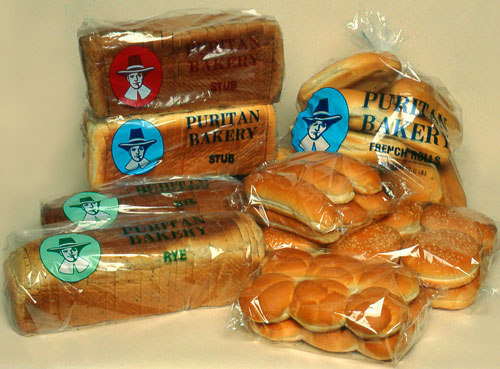hamburger_buns: (256, 232, 443, 369), (73, 12, 289, 102), (326, 50, 456, 181), (249, 139, 392, 229)
